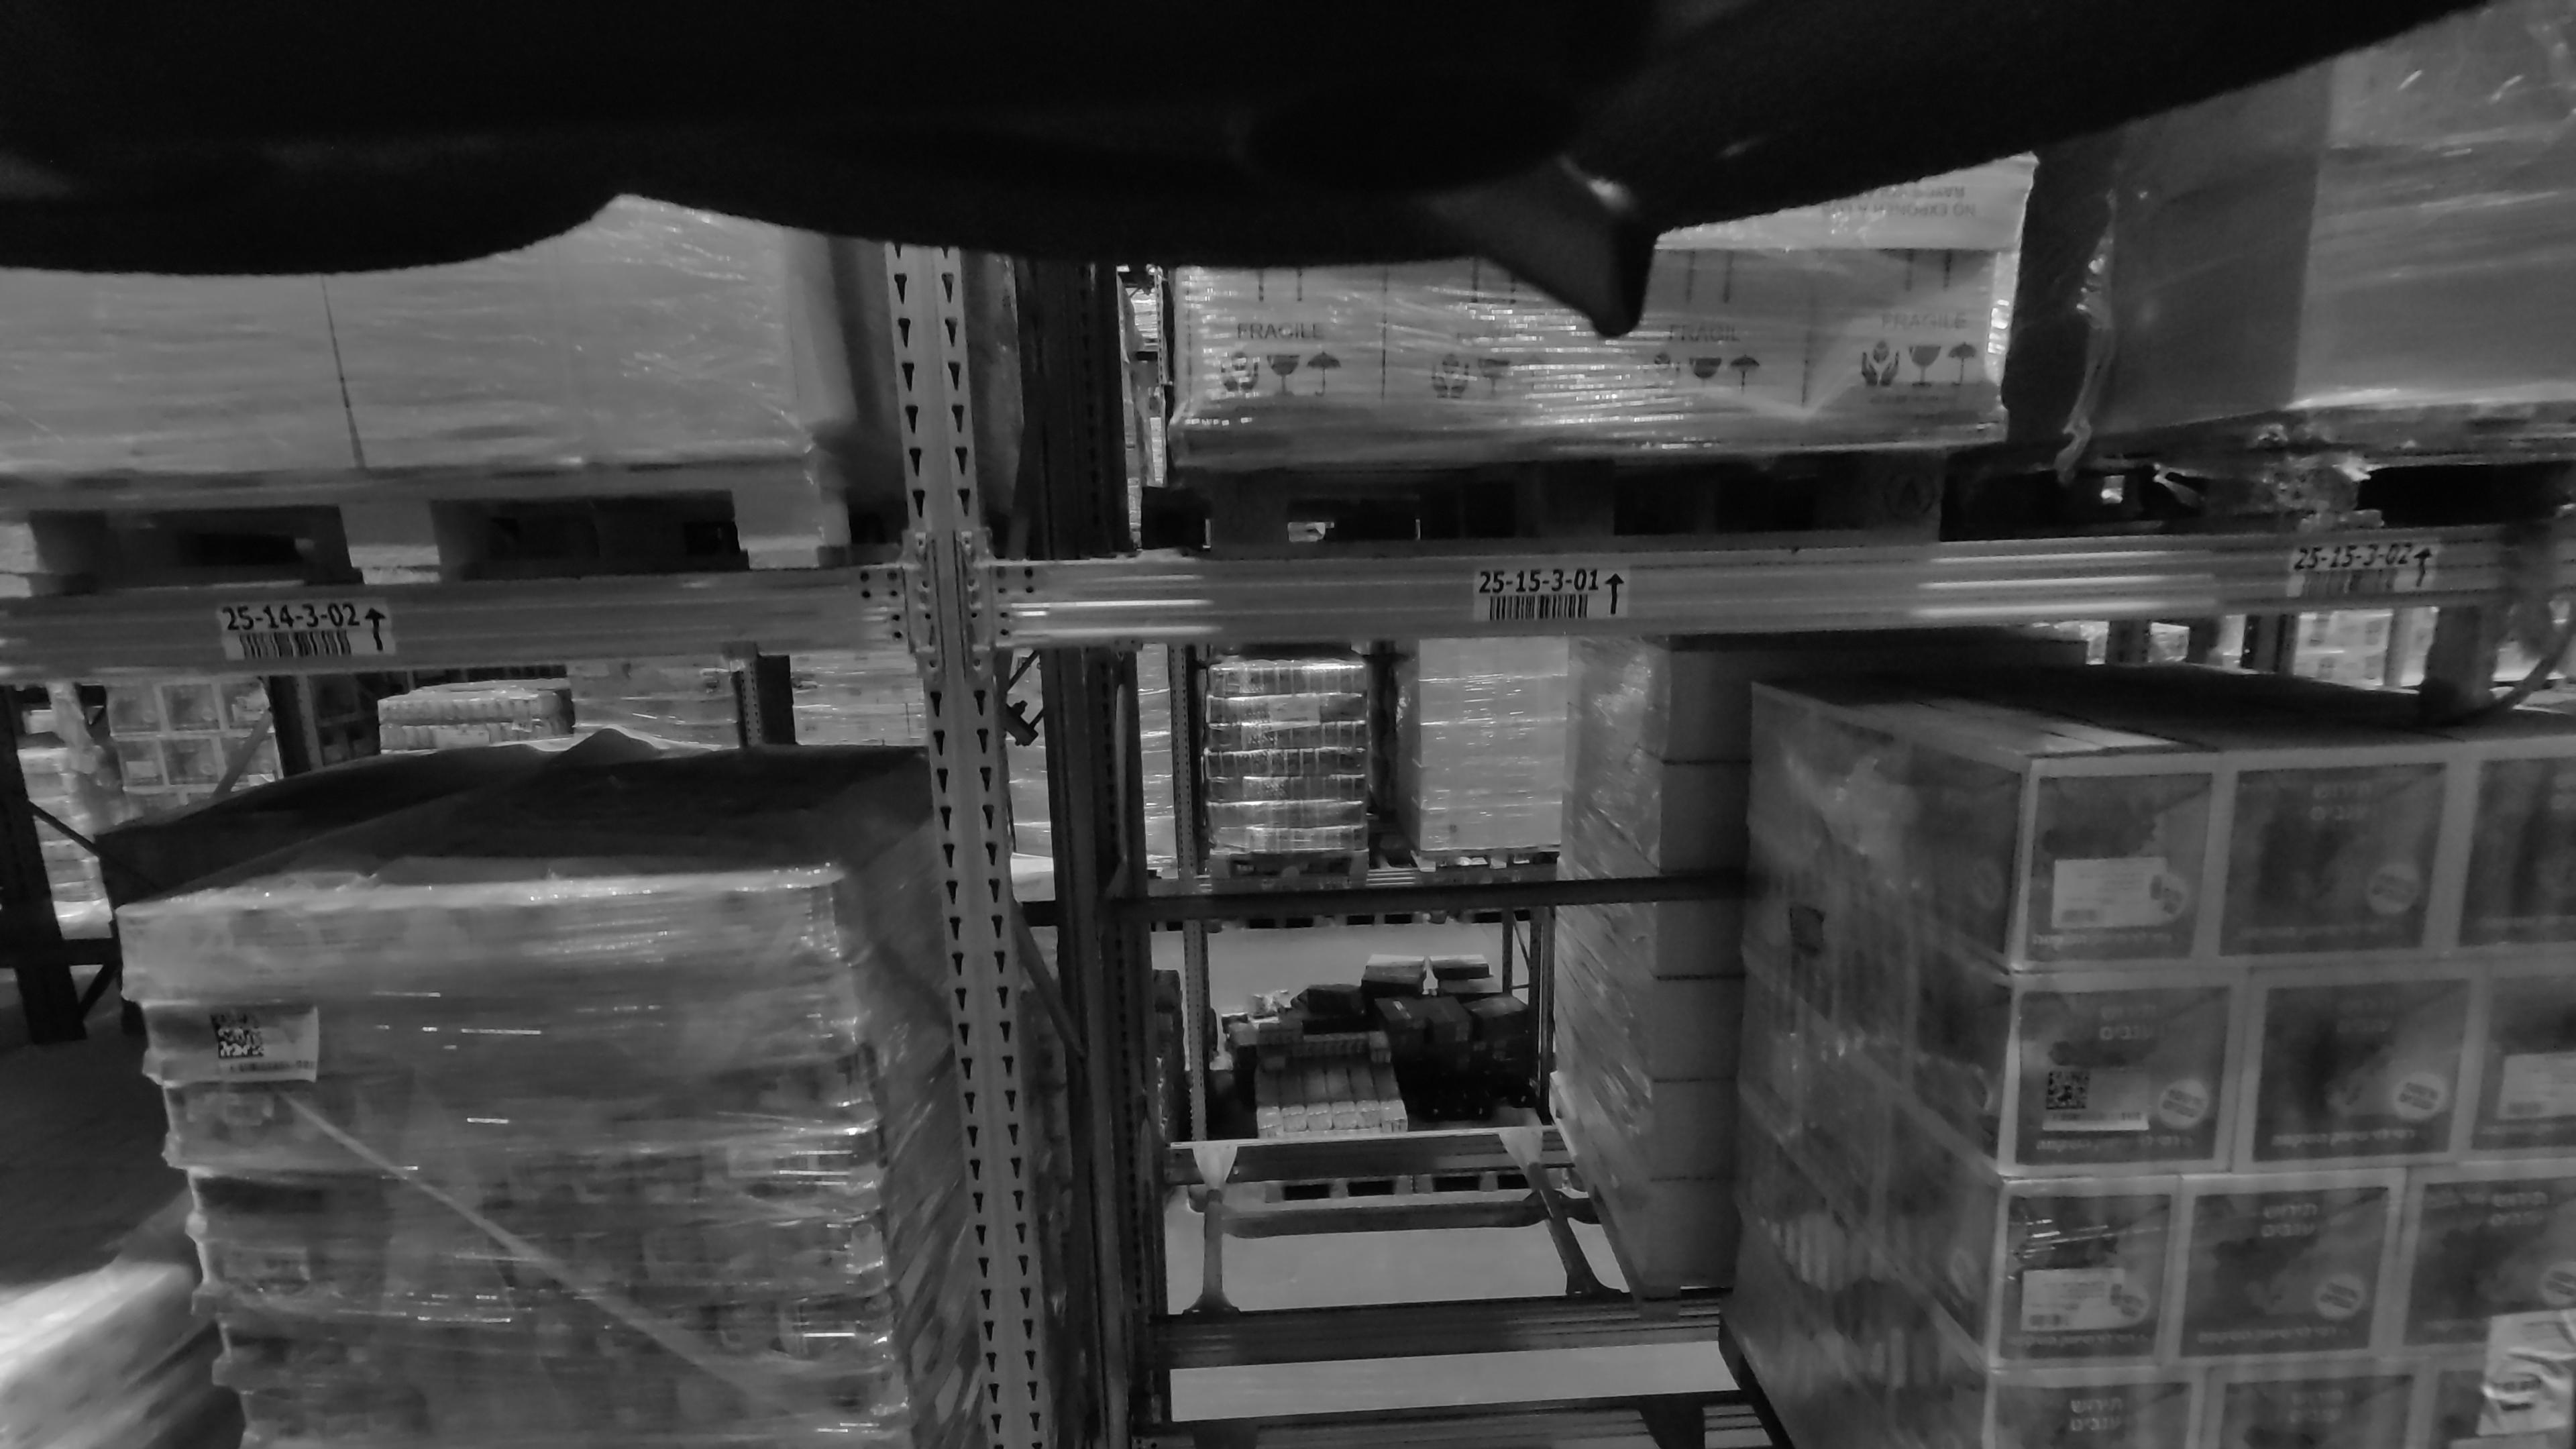empty-shelf: (1118, 637, 1780, 1449), (1184, 651, 1583, 1311)
